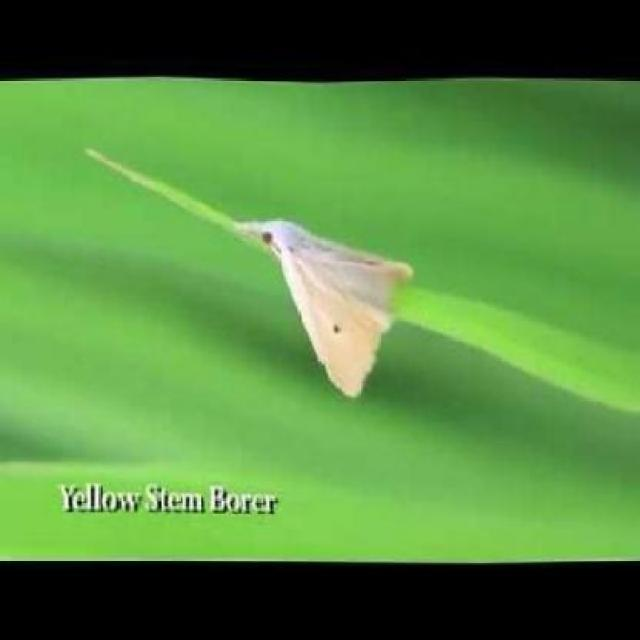stem-borer: (229, 217, 416, 398)
